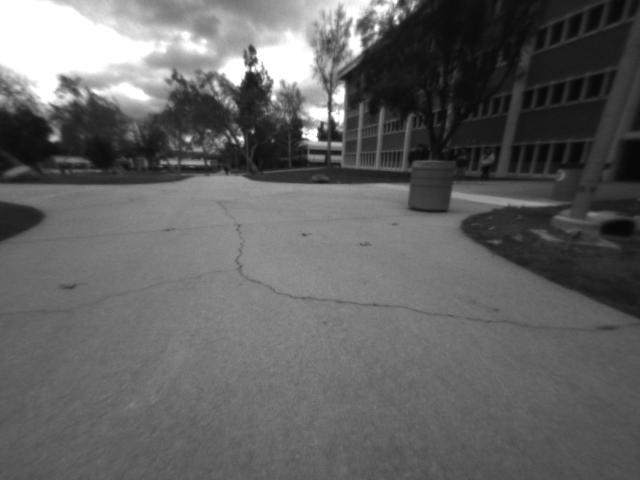trashcan: (407, 156, 454, 219), (556, 163, 585, 208)
